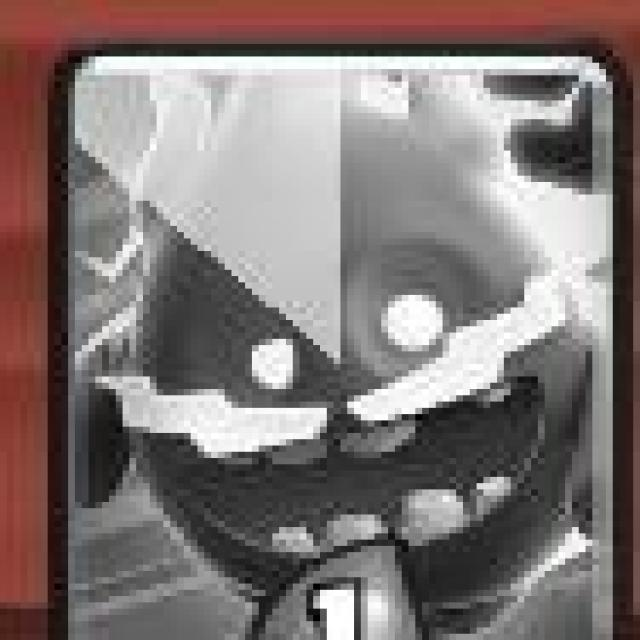Electro_Spirit: (51, 37, 627, 640)
